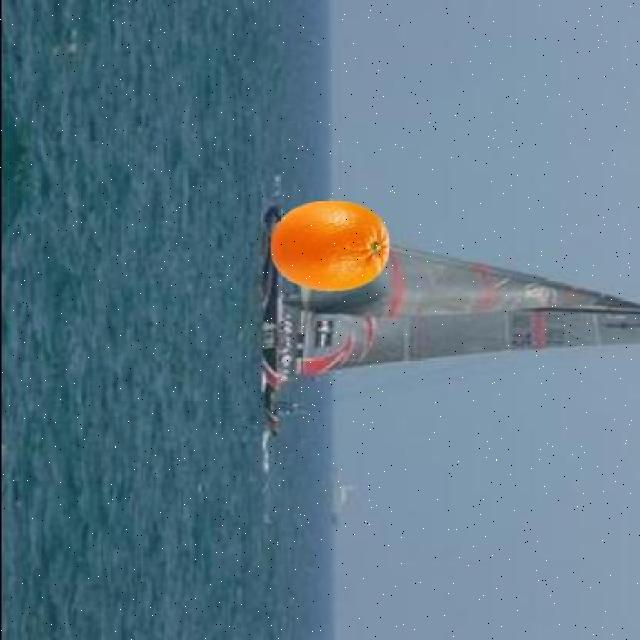Orange: (268, 196, 390, 292)
